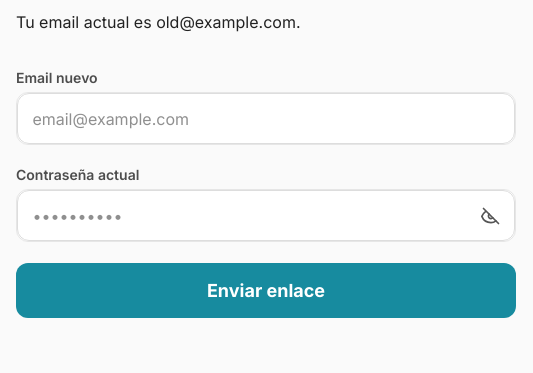
it: ChangeEmail › shows 409 and 429 above the button
Type "New@Example.com" into the field labelled "Email nuevo".
click(266, 119); type("New@Example.com")  # box [17,93,515,144]
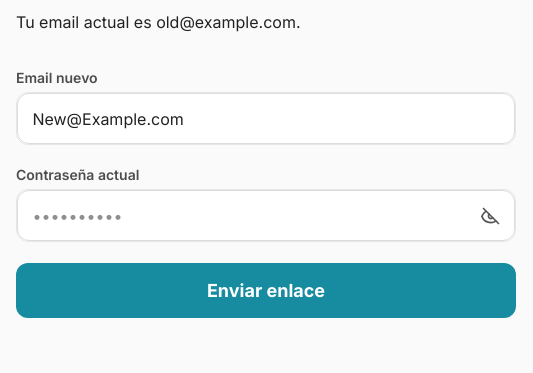
Type "secret123" into the password field labelled "Contraseña actual".
click(266, 216); type("secret123")  # box [17,190,515,241]
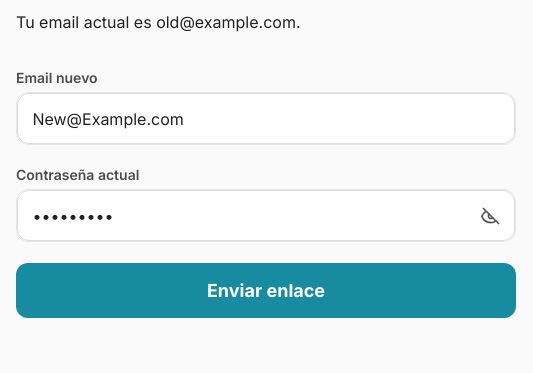
Click the button "Enviar enlace".
click(266, 290)  # box [16,263,516,318]
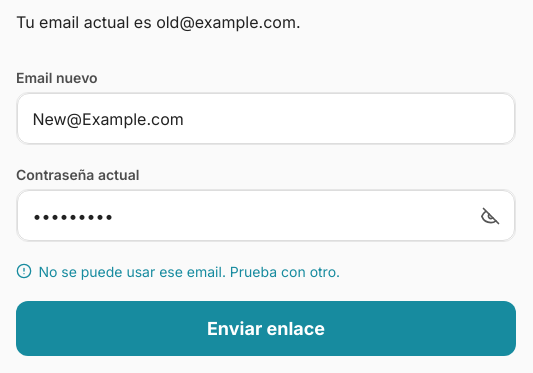
Now the text "No se puede usar ese email. Prueba con otro." is shown, box [16,263,340,280]
Click the button "Enviar enlace".
click(266, 328)  # box [16,300,516,356]
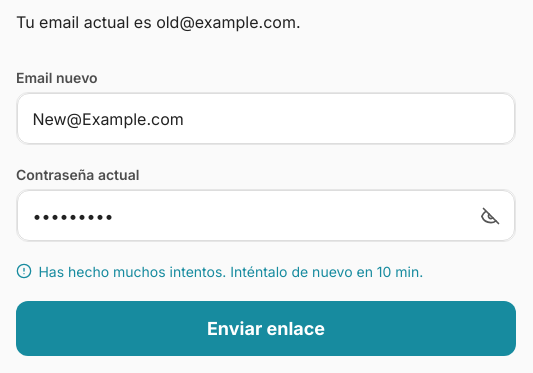
Now the text "Has hecho muchos intentos. Inténtalo de nuevo en 10 min." is shown, box [16,263,423,280]
